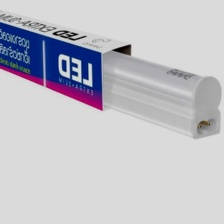book: (0, 6, 134, 119)
light_bulb: (0, 1, 221, 112)
